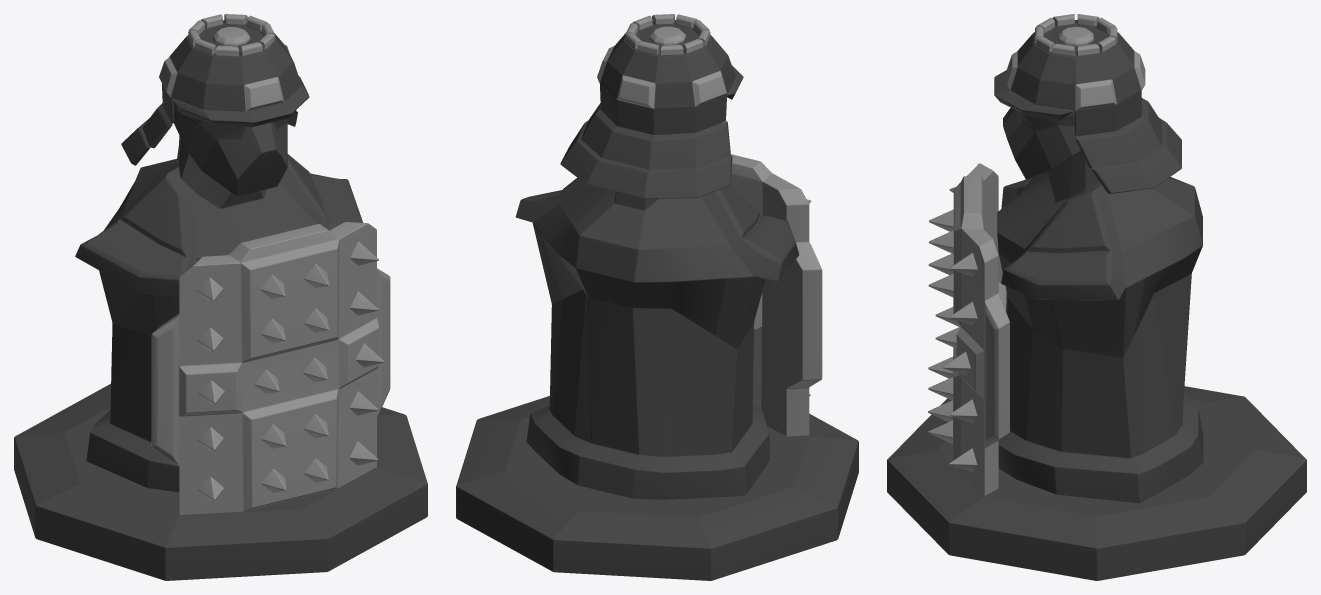
The model's file is samuray_r_b.glb.
3 views of the same model, side by side, from view 1: azimuth 30°, elevation 25°; view 2: azimuth 150°, elevation 25°; view 3: azimuth 270°, elevation 25° (orthographic). The views are drawn at different scales.
Parts seen in each view (by area): view 1: b_B1; view 2: b_B1; view 3: b_B1.
Part boxes in pixels (bbox=[...]): b_B1: bbox=[14, 14, 427, 580]; b_B1: bbox=[456, 14, 858, 580]; b_B1: bbox=[887, 14, 1306, 580].
Bounding box in the file's own units: 1.65 × 2.04 × 1.65.
Materials: 1 (1 with a texture image).
